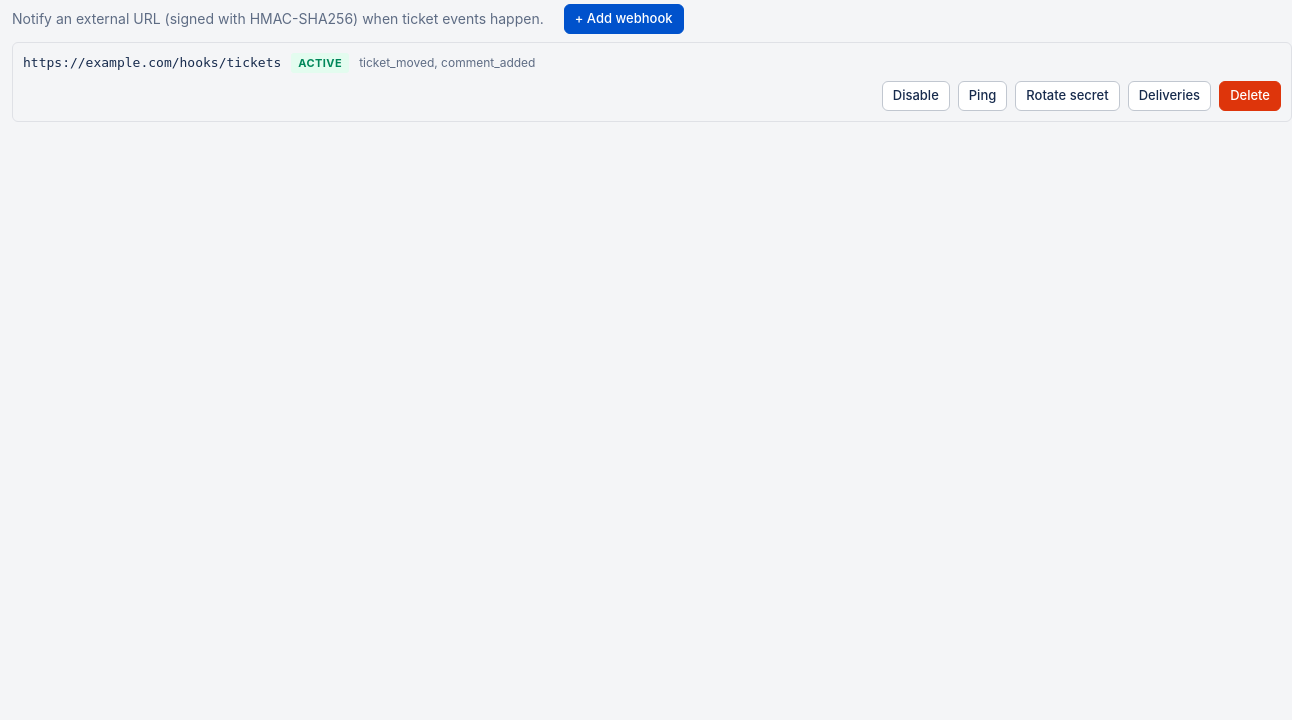
Test: WebhooksManager › creates a webhook and reveals the signing secret once
Expected: the text "https://example.com/hooks/tickets" is shown, 23,53 -> 281,72
Click the button "+ Add webhook" at (624, 19), box 564,4 -> 684,34
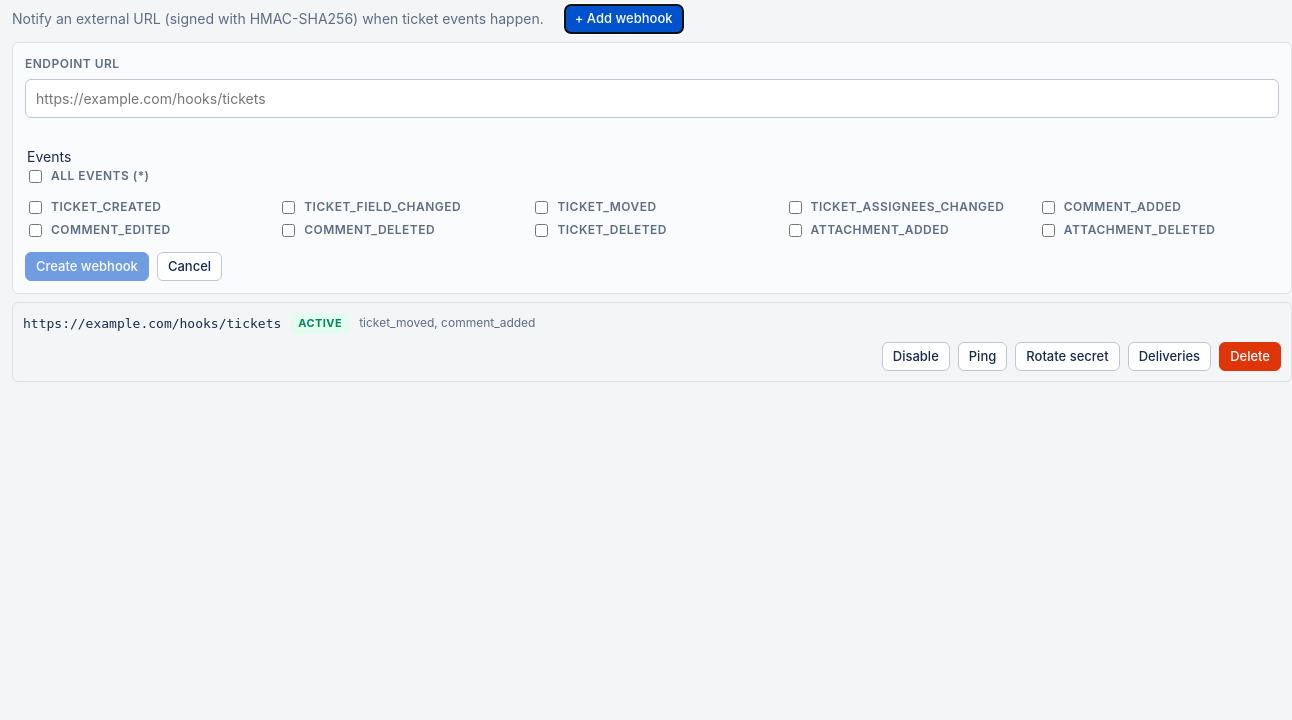
Type "https://hooks.example.com/x" into the field labelled "Endpoint URL" at (652, 98), box 25,78 -> 1279,118
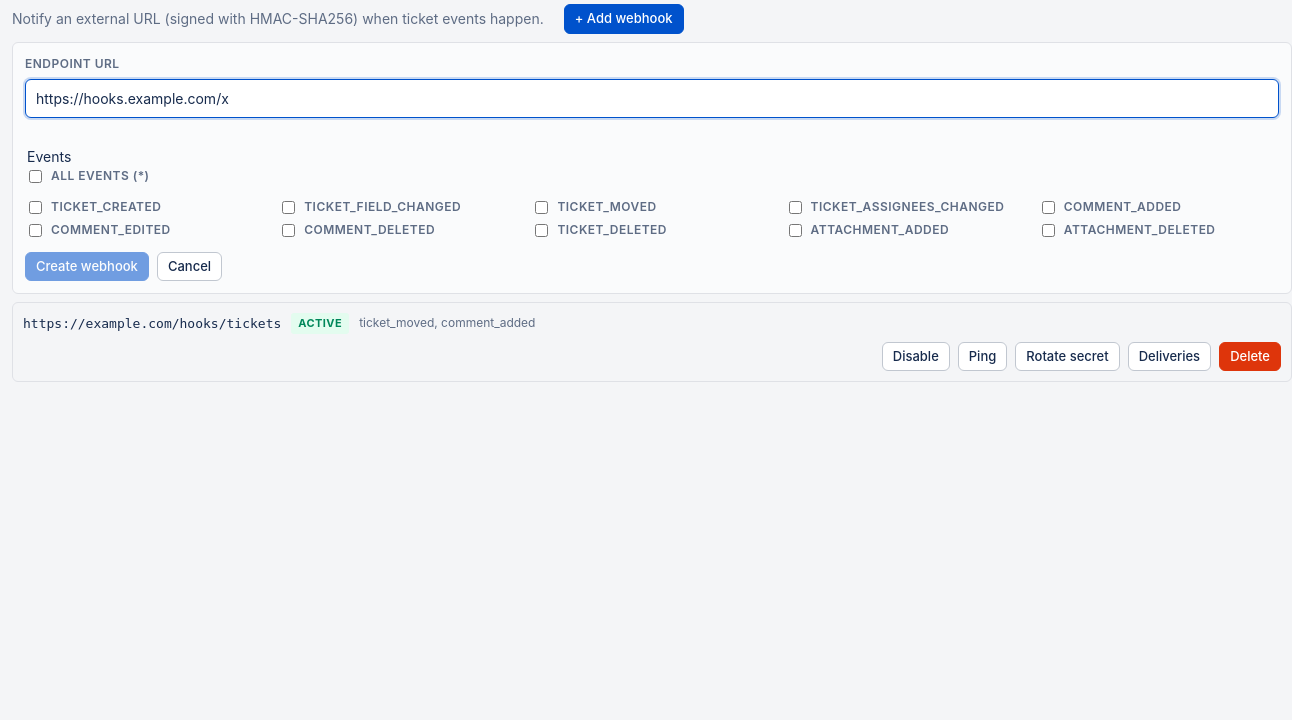
Click the checkbox labelled "ticket_moved" at (542, 207), box 535,200 -> 548,214
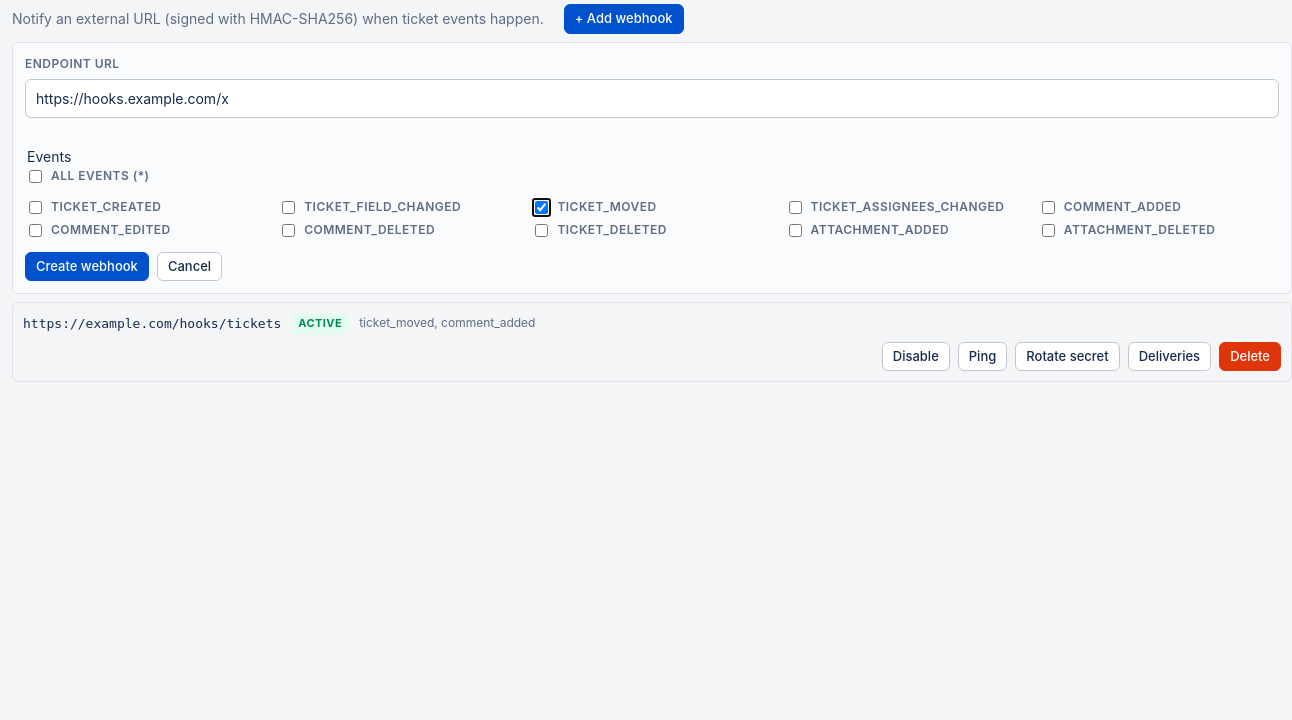
Click the button "Create webhook" at (87, 266), box 25,252 -> 149,281
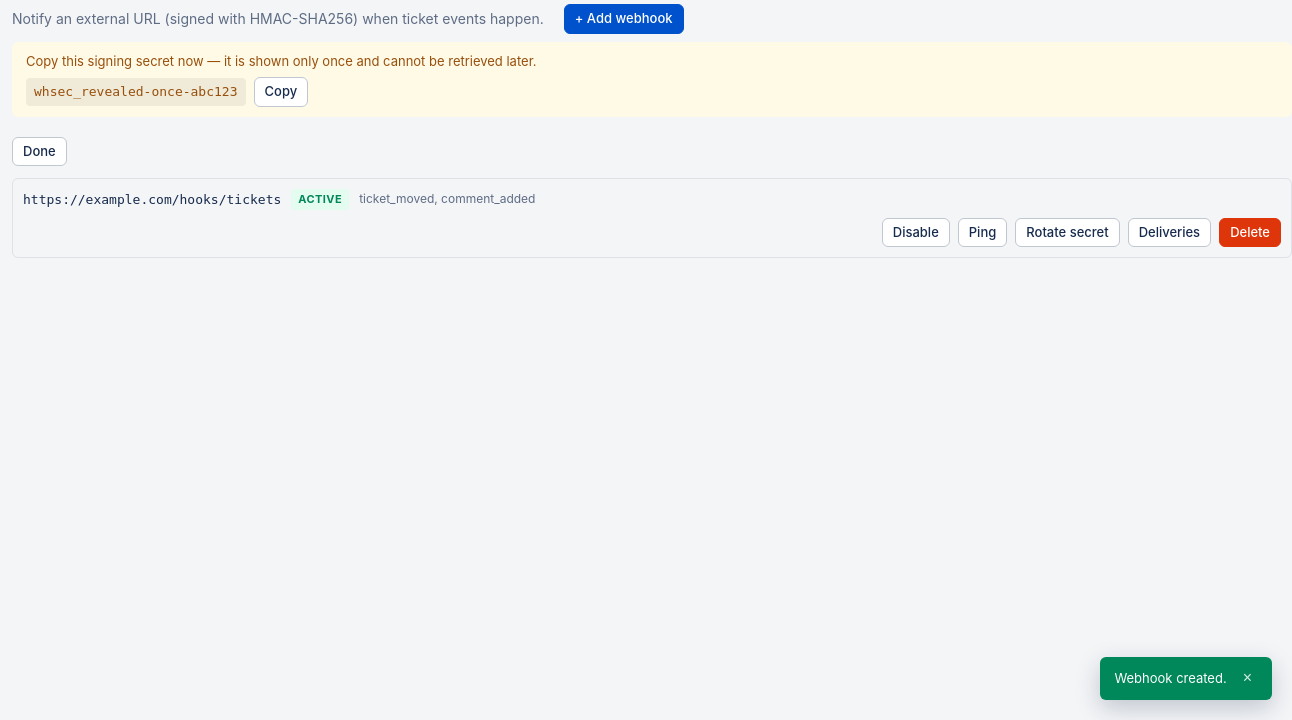
Expected: the text with test id "revealed-secret" reads "whsec_revealed-once-abc123", 34,84 -> 238,99
